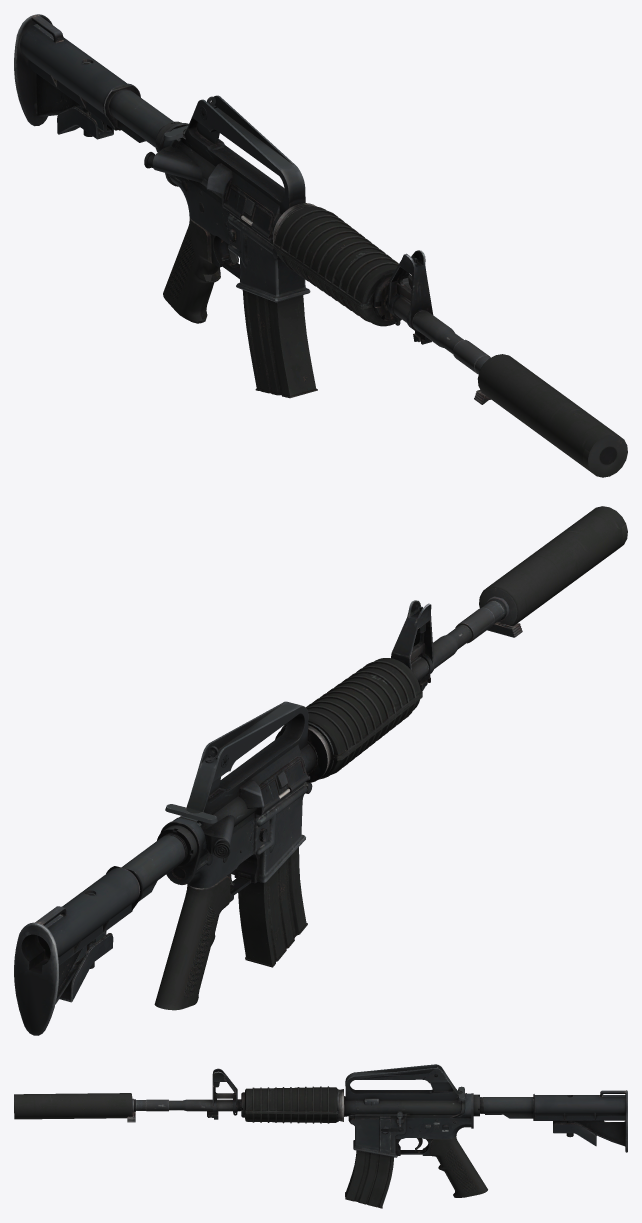
3 renders of one model, top to bottom at view 1: azimuth 30°, elevation 25°; view 2: azimuth 150°, elevation 25°; view 3: azimuth 270°, elevation 25°, orthographic. The views are drawn at different scales.
Visible parts, largest first — view 1: m4a1s; view 2: m4a1s; view 3: m4a1s.
Part boxes in pixels (bbox=[...]): m4a1s: bbox=[14, 14, 627, 477]; m4a1s: bbox=[14, 506, 627, 1035]; m4a1s: bbox=[14, 1064, 627, 1208].
Bounding box in the file's own units: 3.58 × 11.71 × 47.46.
1 material, 1 textured.
